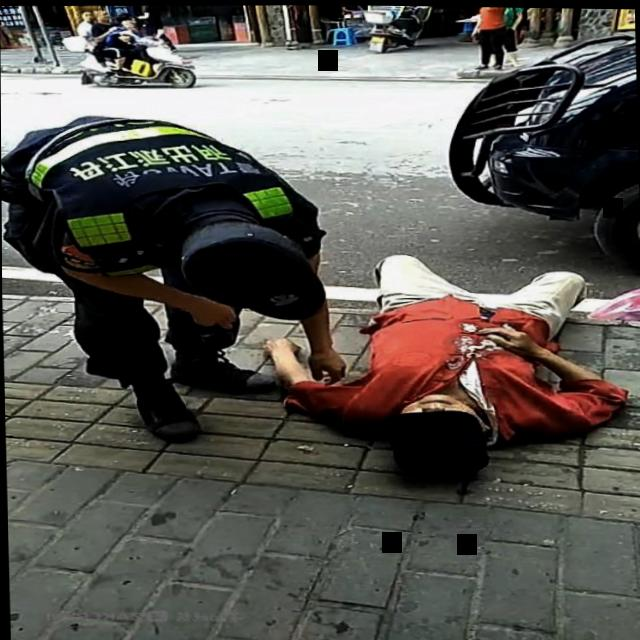Fall-Detected: (261, 223, 633, 494)
